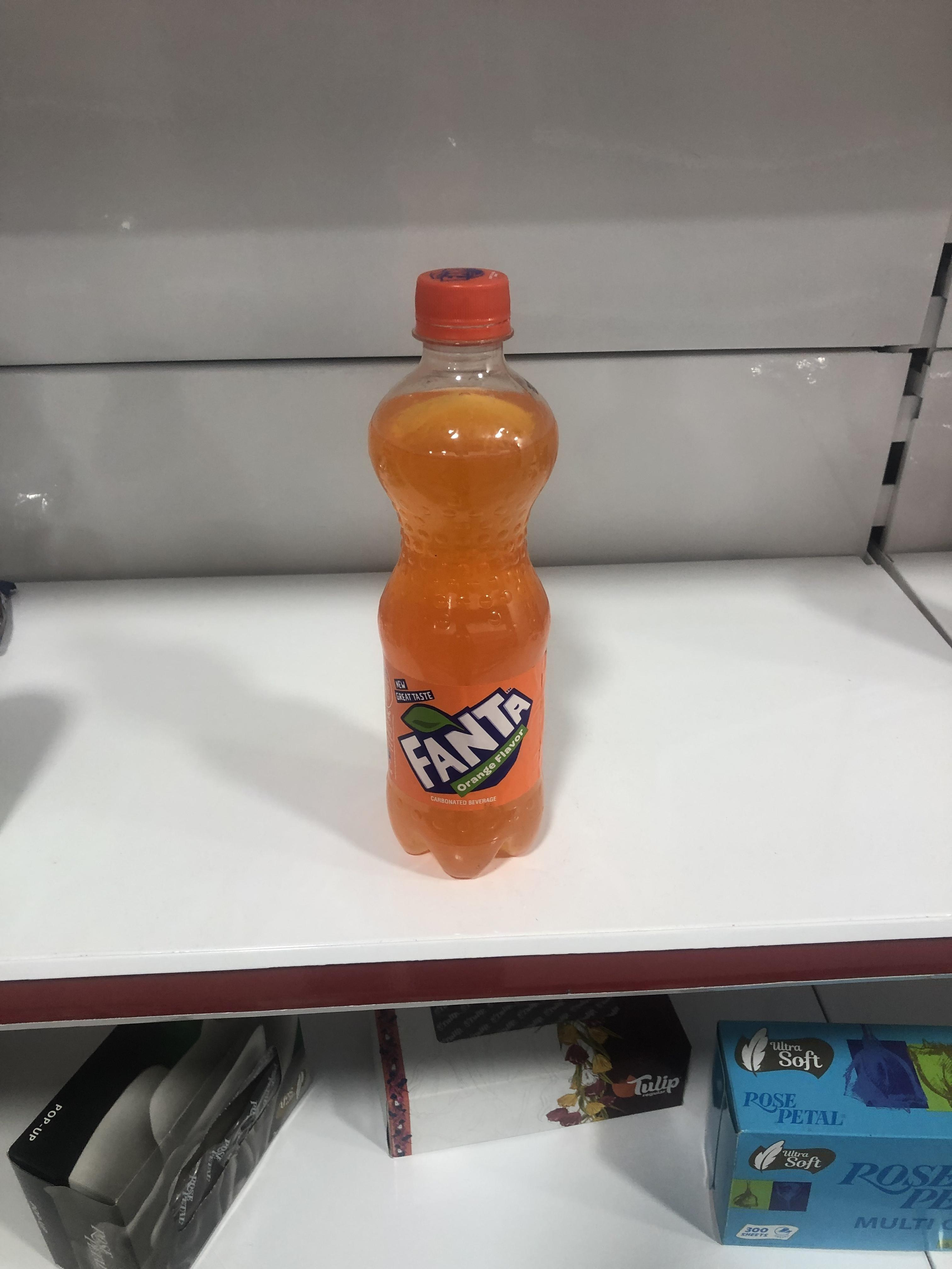bottle-plastic: (354, 257, 564, 883)
